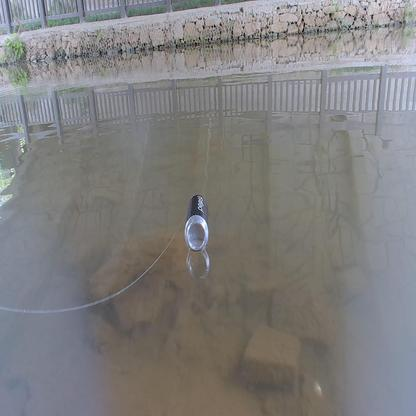can: (185, 193, 209, 253)
